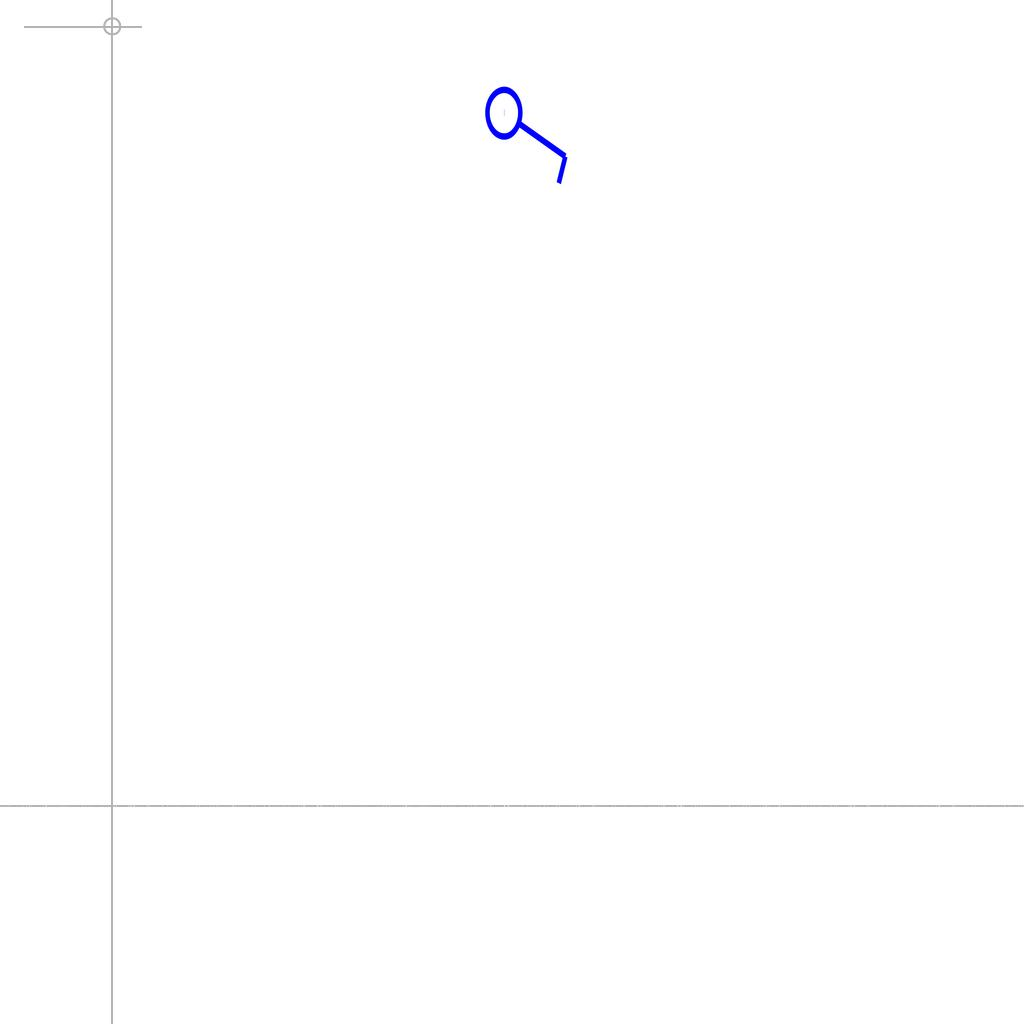Ausschalter: (482, 75, 578, 187)
